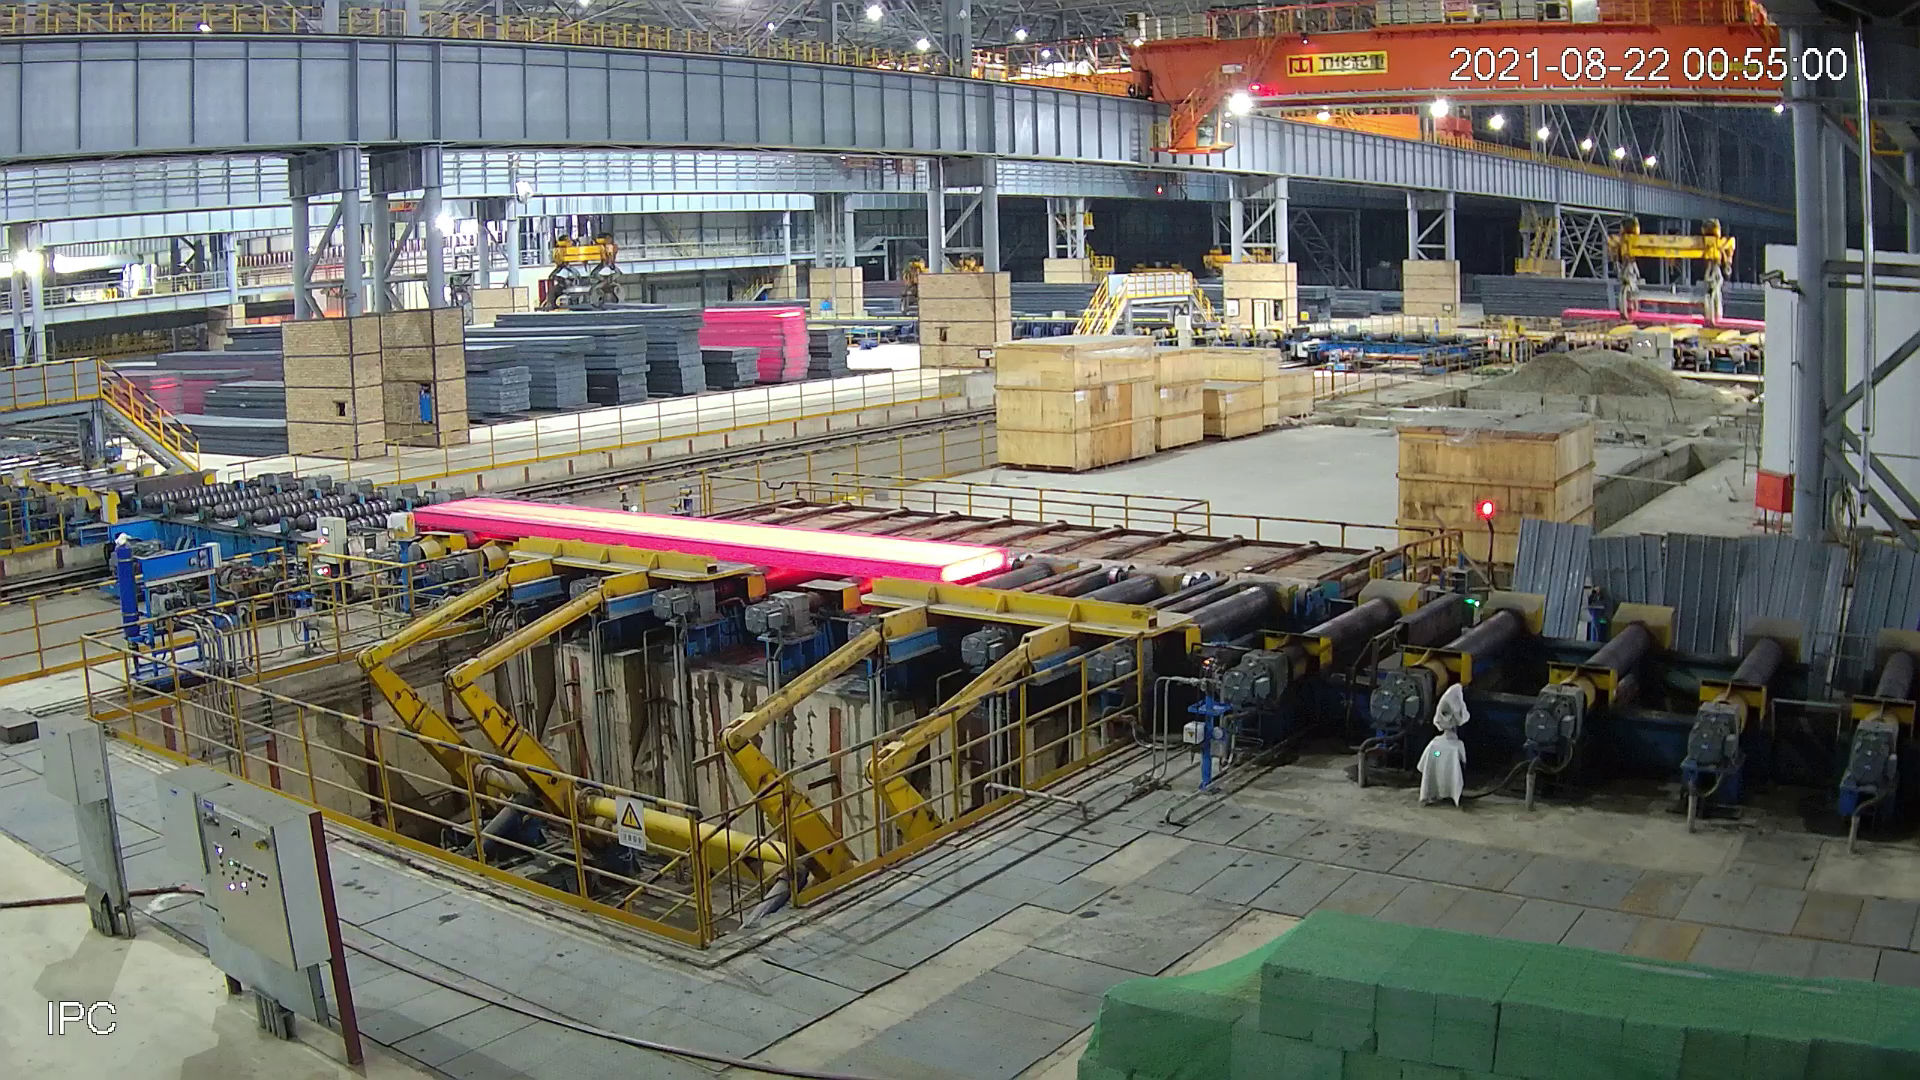slab: (400, 492, 1019, 591)
